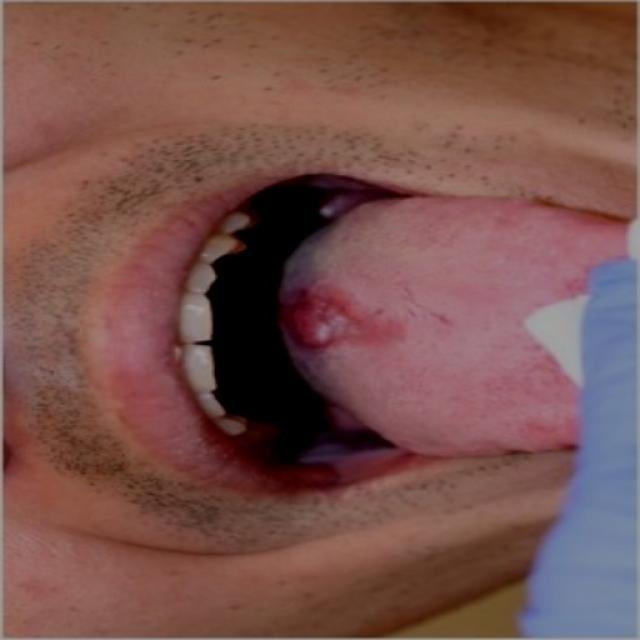cancer-detection: (270, 266, 368, 375)
processing_area: (274, 194, 627, 463)
